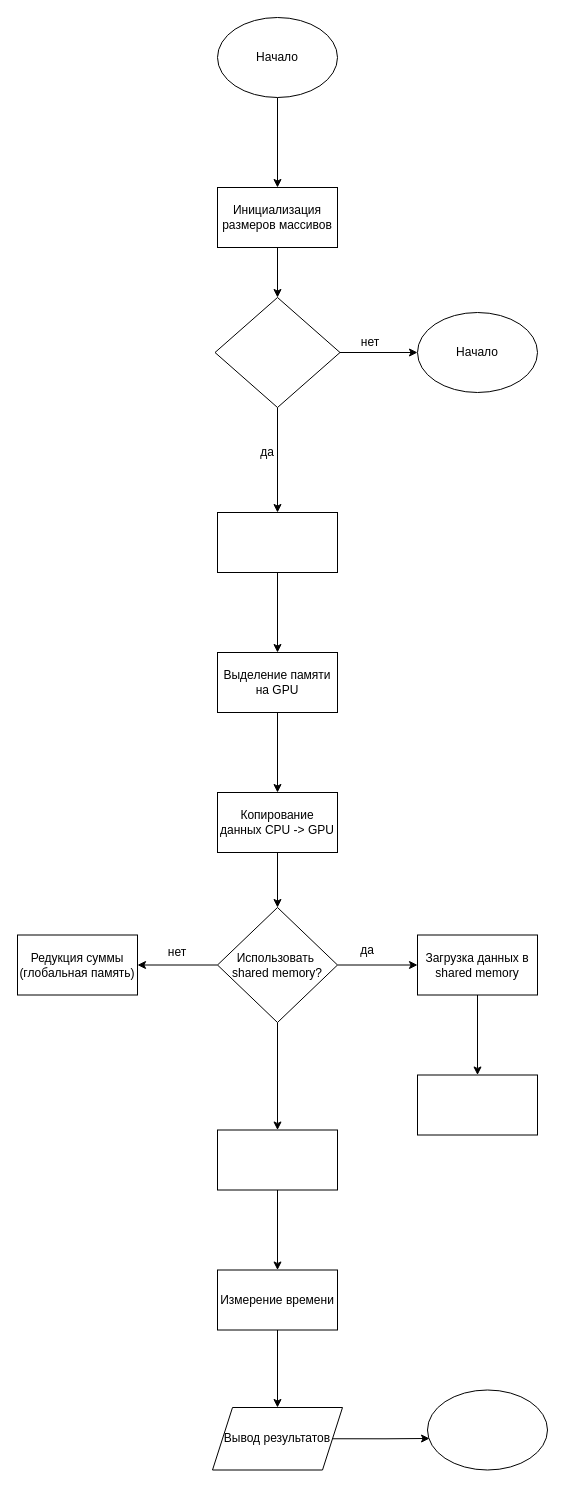
Some shapes in this 565 by 1488 pixel diagram are drawn without their labels. Each missing label, with the centre of its shape:
"Генерация массива случайных чисел (СPU)" goes at (277,542).
"Есть следующий размер массив?" goes at (277,352).
"Конец" goes at (487,1429).
"Редукция в shared memory" goes at (477,1104).
"Синхронизация GPU" goes at (277,1159).
